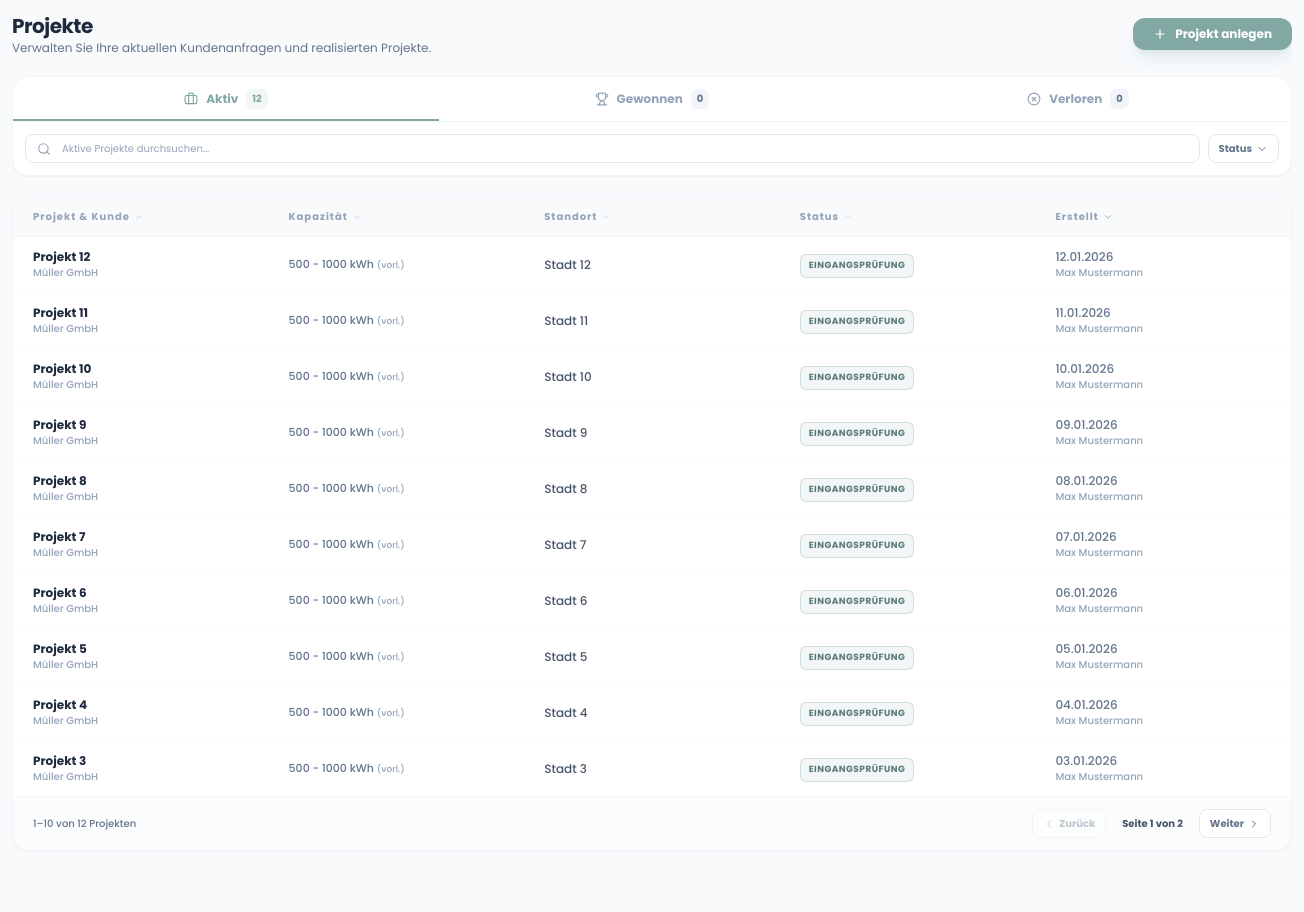
it: ProjektUeberblick – Pagination › Weiter-Button wechselt zur nächsten Seite
Click the button "Weiter" at (1235, 824), box 1199,809 -> 1271,838
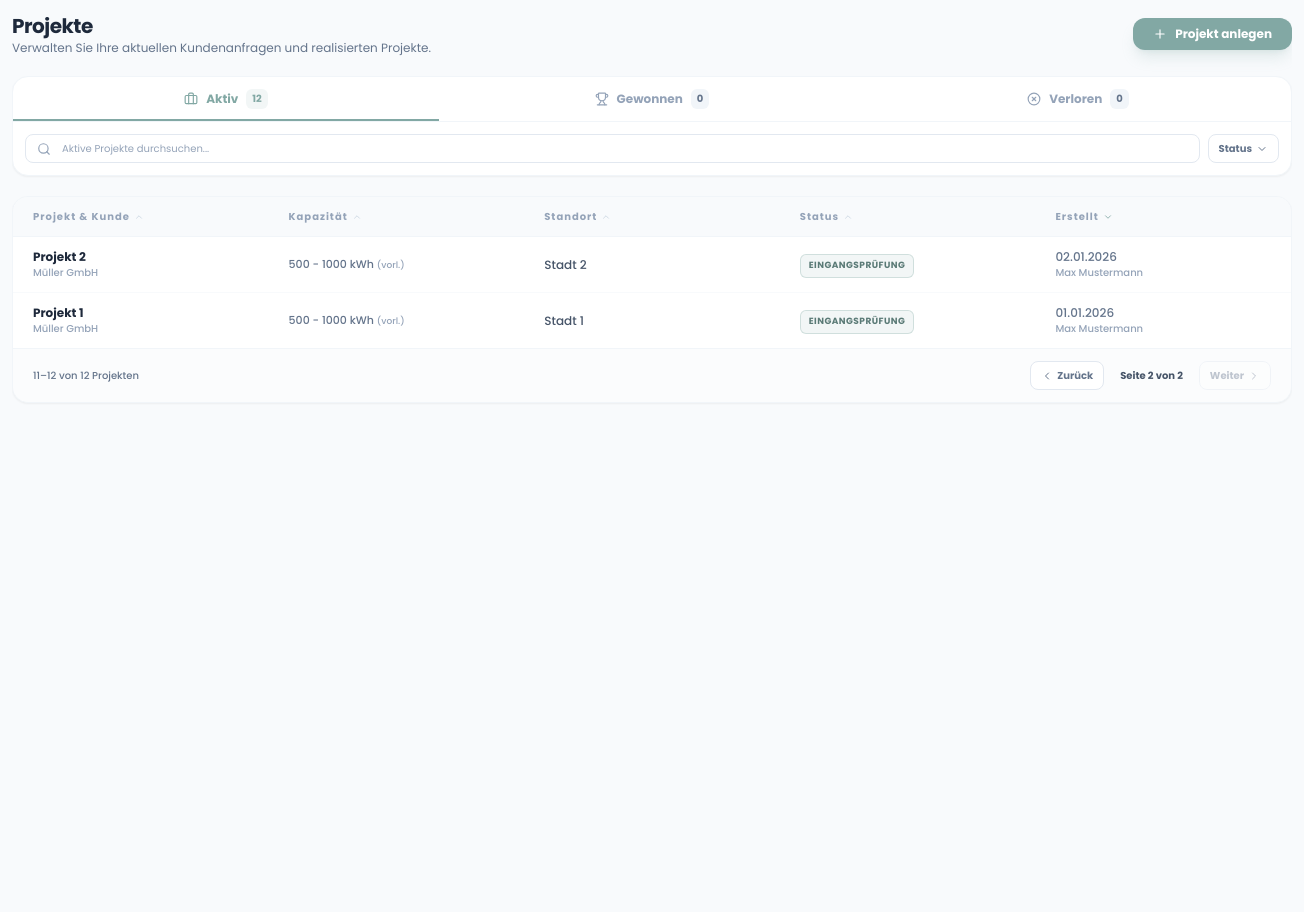
Result: the text "Seite 2 von 2" is shown at 1120,368 -> 1183,383
